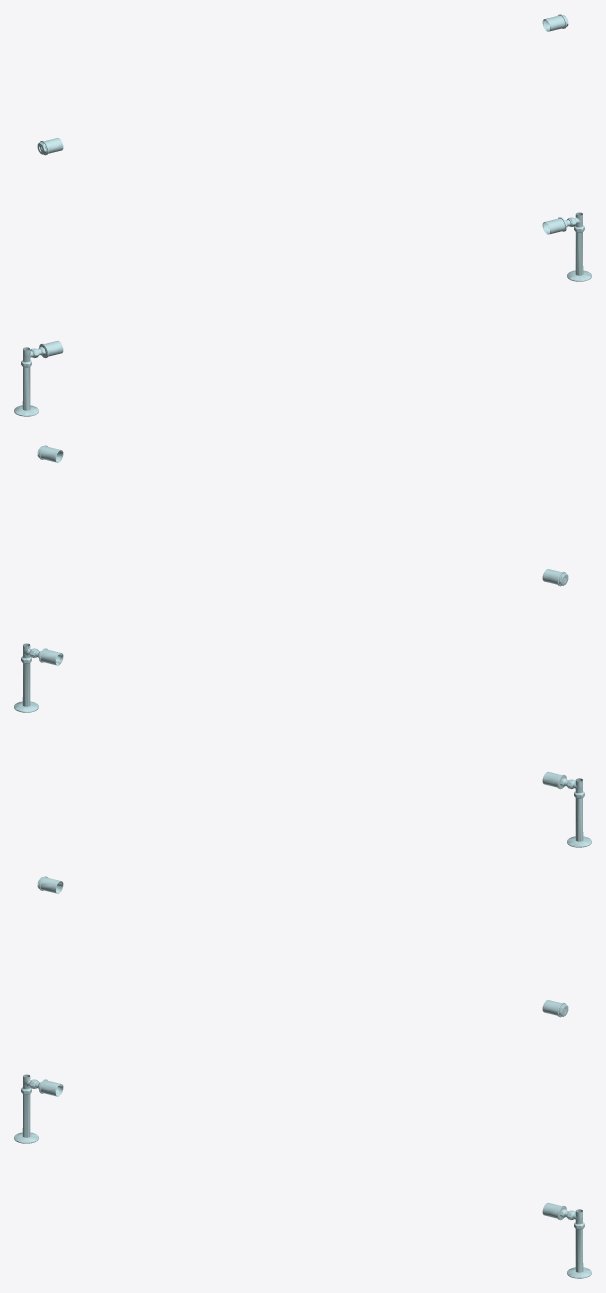
Rendered from studyroom_57.obj.
The picture shows the model from 3 angles, top to bottom: view 1: azimuth 30°, elevation 25°; view 2: azimuth 150°, elevation 25°; view 3: azimuth 330°, elevation 25°; orthographic projection.
Size of the model in its own units: 1.53 by 0.6764 by 0.0586.
